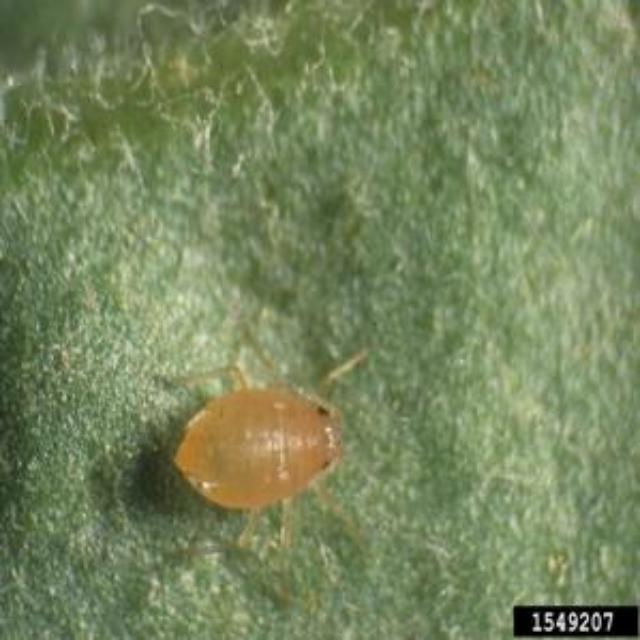Green peach aphid: (118, 286, 414, 580)
